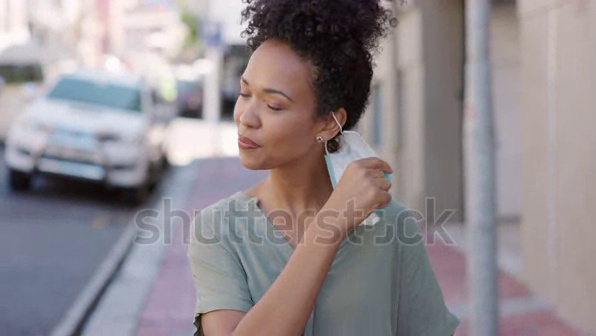No Mask: (233, 107, 307, 175)
